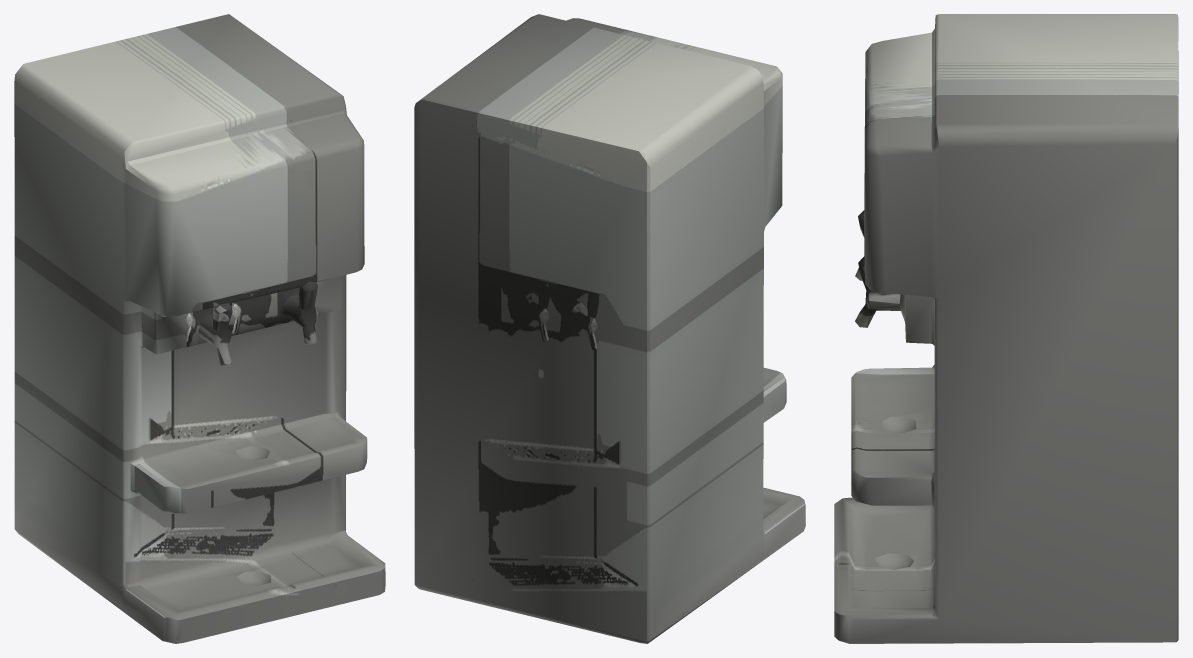
The picture shows the model from 3 angles, left to right: view 1: azimuth 30°, elevation 25°; view 2: azimuth 150°, elevation 25°; view 3: azimuth 270°, elevation 25°; orthographic projection. The views are drawn at different scales.
Parts seen in each view (by area): view 1: Decor_drink_dispenser_c; view 2: Decor_drink_dispenser_c; view 3: Decor_drink_dispenser_c.
Part boxes in pixels (<box>): Decor_drink_dispenser_c: <box>14,14,385,643</box>; Decor_drink_dispenser_c: <box>414,14,805,643</box>; Decor_drink_dispenser_c: <box>834,14,1178,643</box>.
Size of the model in its own units: 0.9007 by 1.8 by 1.09.
Materials: 1 (1 with a texture image).
